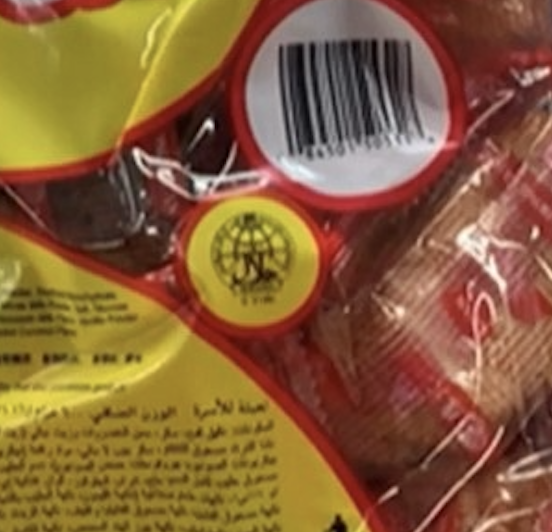halal: (220, 232, 284, 303)
